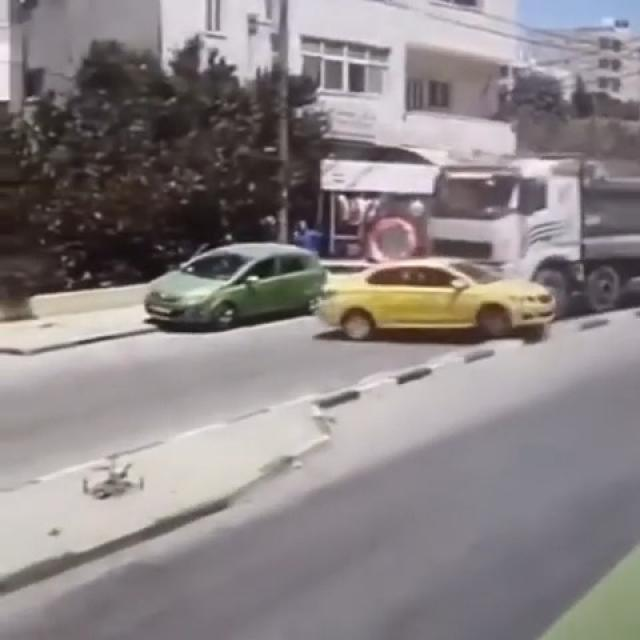accident: (335, 154, 640, 337)
